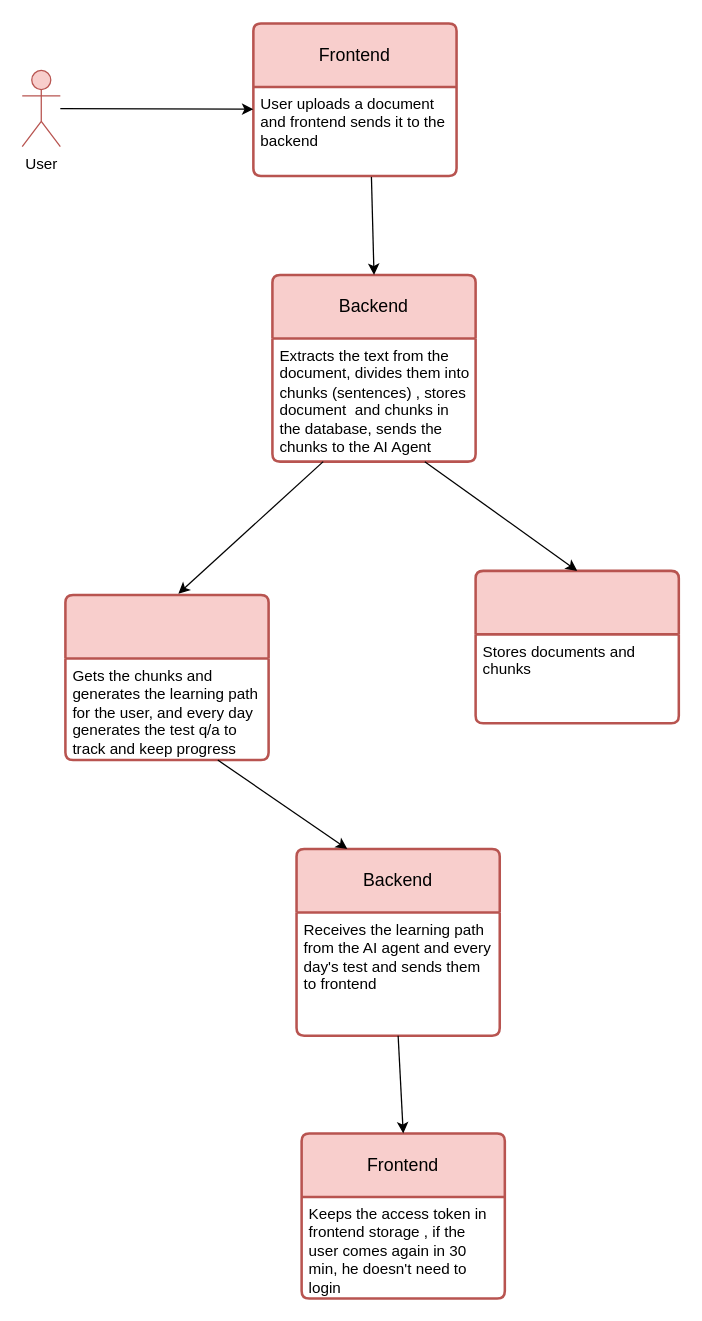
This 702x1321 diagram has some shape labels left out. Here are the shapes that lost their labels. From the top down, the box of each, then its label:
(474, 569, 679, 724): Database
(64, 593, 269, 761): AI Agent
